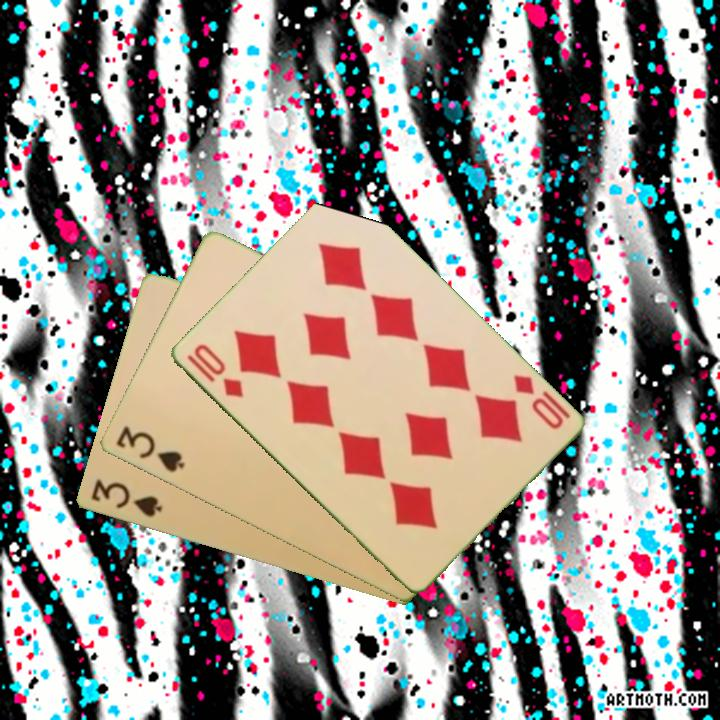10d: (182, 340, 247, 401), (508, 371, 566, 432)
3s: (111, 423, 188, 476), (87, 475, 165, 520)
